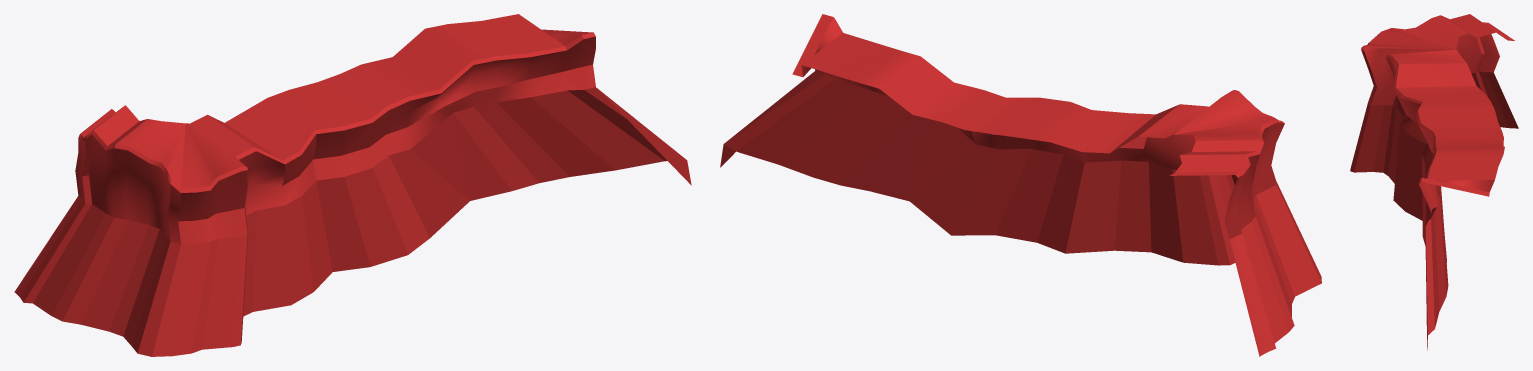
The model's file is Canyon_B.fbx.
The picture shows the model from 3 angles, left to right: view 1: azimuth 30°, elevation 25°; view 2: azimuth 150°, elevation 25°; view 3: azimuth 270°, elevation 25°; orthographic projection. The views are drawn at different scales.
Visible parts, largest first — view 1: Canyon_B; view 2: Canyon_B; view 3: Canyon_B.
Boxes of the visible parts, <box> form: Canyon_B: <box>14,14,691,356</box>; Canyon_B: <box>720,14,1321,356</box>; Canyon_B: <box>1350,14,1518,350</box>.
Bounding box in the file's own units: 14747 × 4108 × 4575.
